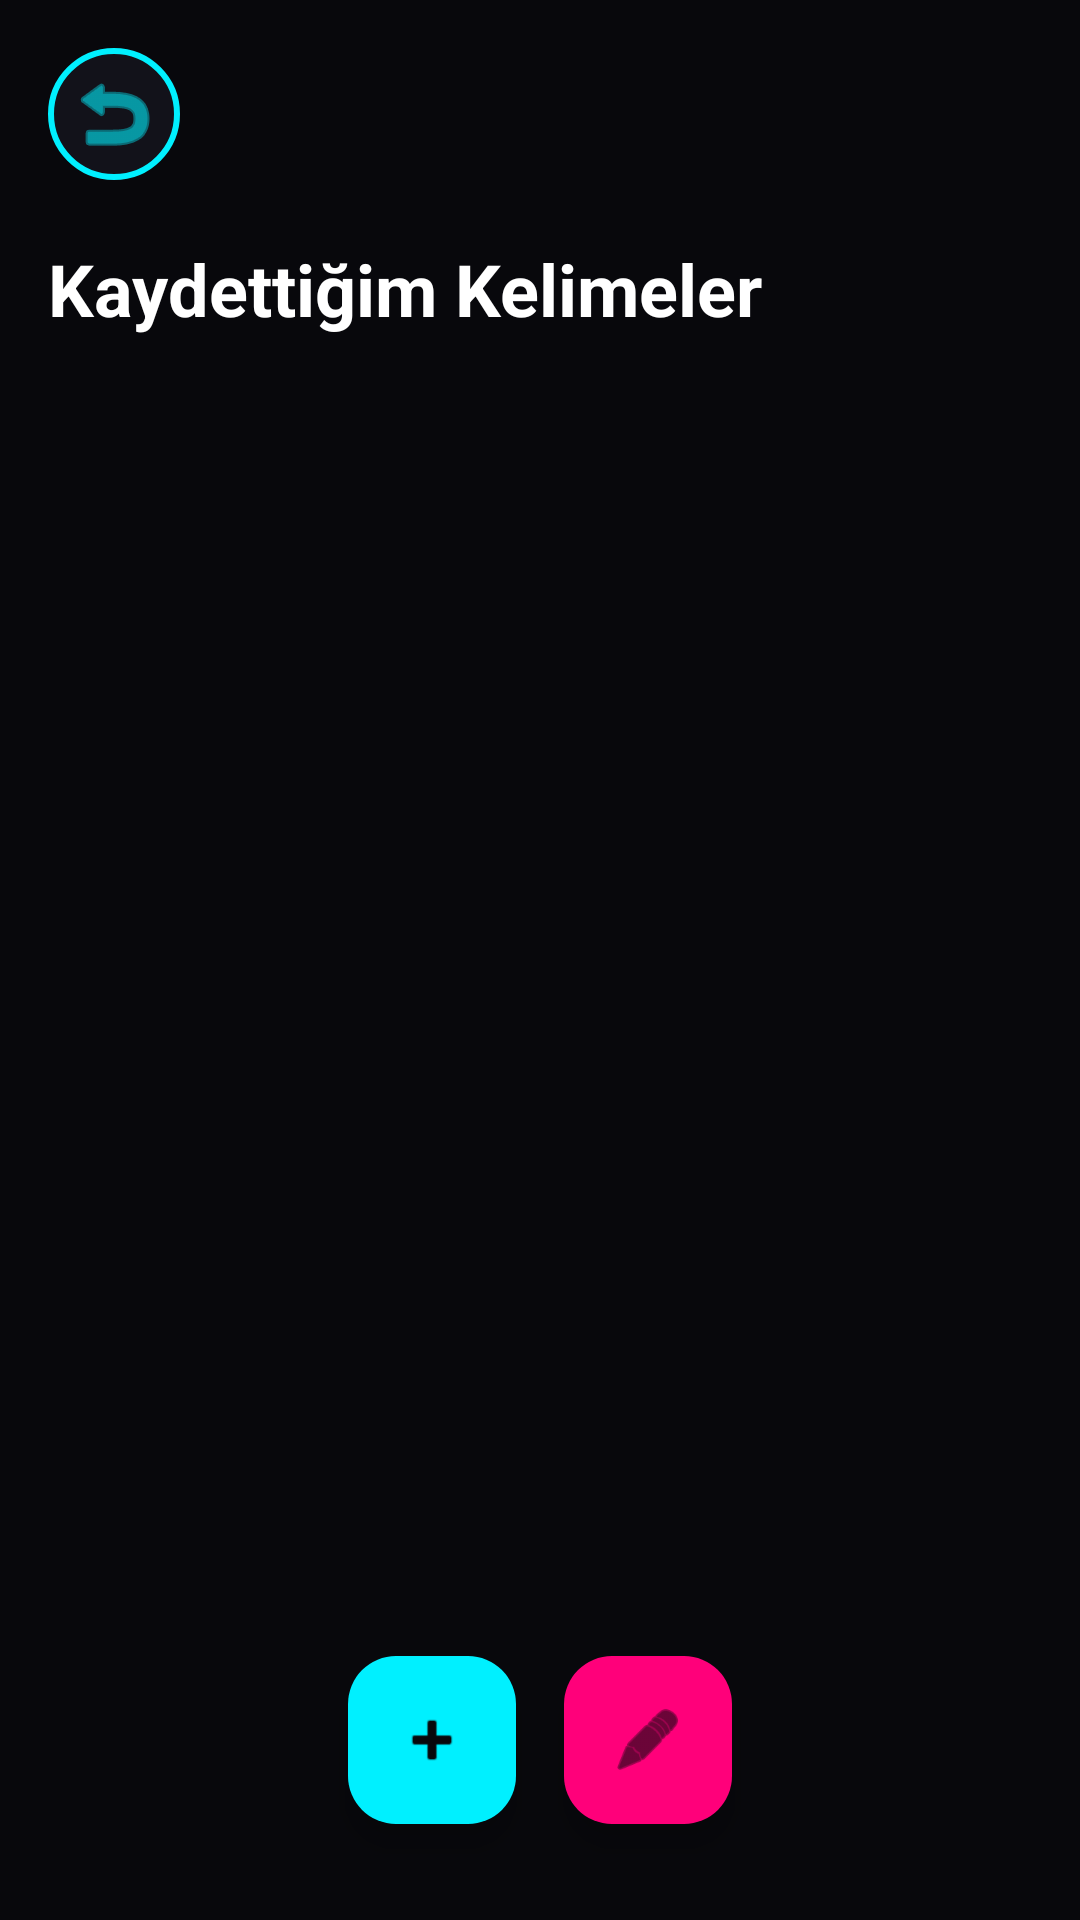

Screen size 1080*1920. Icon name, then its center in pixels as (x,y):
Geri Dön: (114,114)
Kelime Düzenle: (648,1740)
Kelime Ekle: (432,1740)
